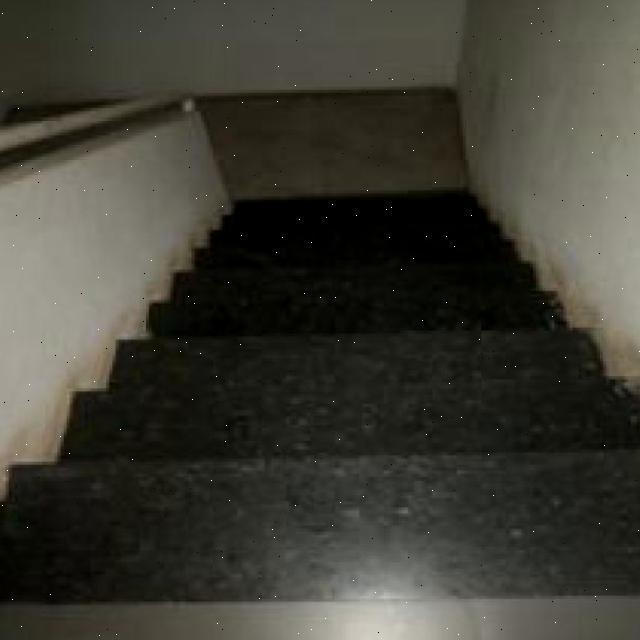stair: (21, 285, 640, 520)
